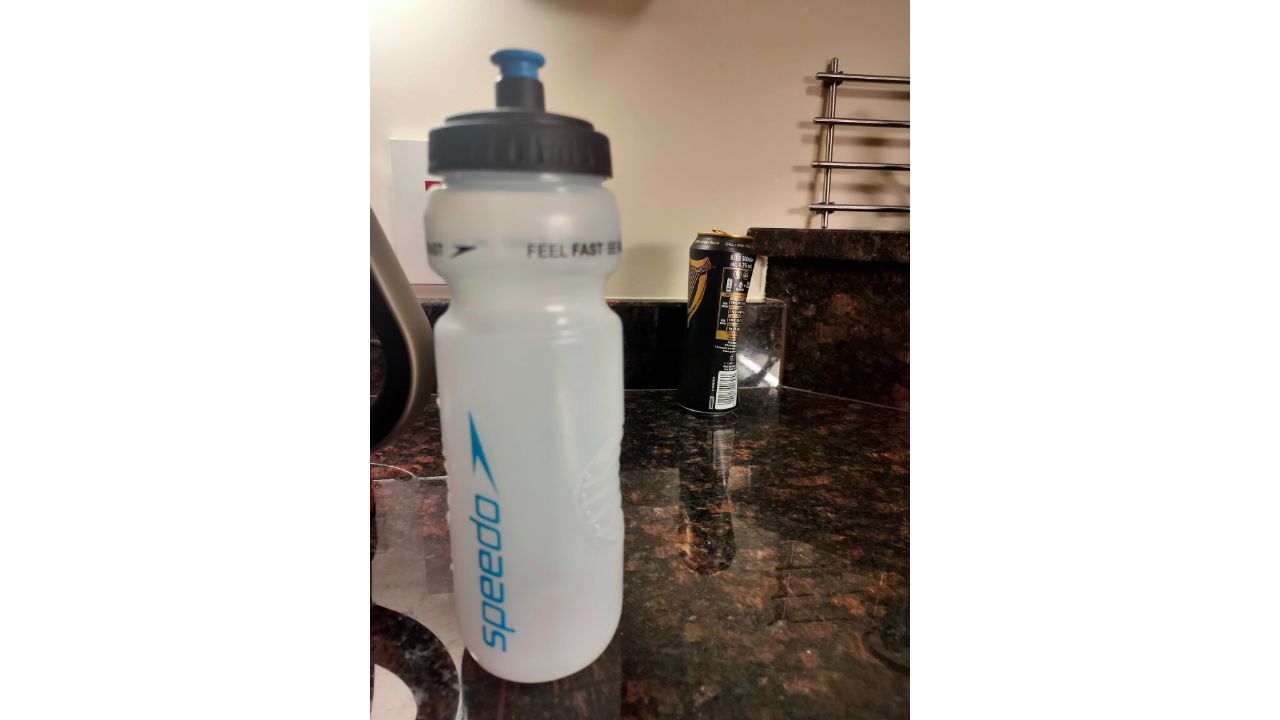Can: (682, 224, 745, 418)
